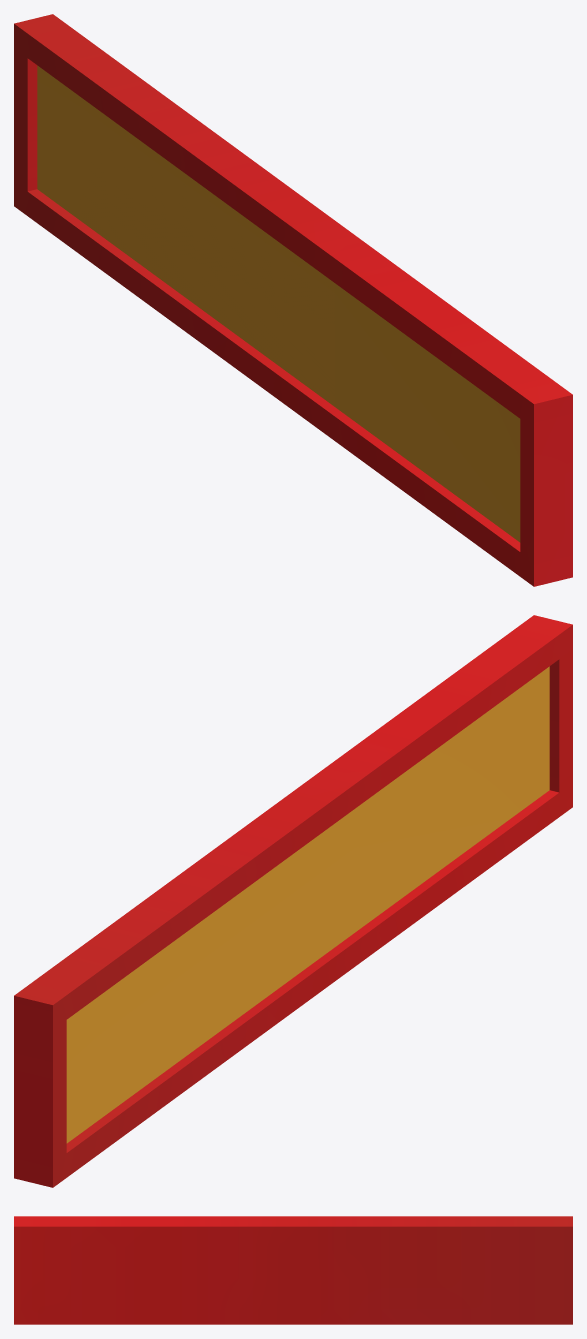
Rendered from SignBoard_1_A.fbx.
3 renders of one model, top to bottom at view 1: azimuth 30°, elevation 25°; view 2: azimuth 150°, elevation 25°; view 3: azimuth 270°, elevation 25°, orthographic. The views are drawn at different scales.
Parts seen in each view (by area): view 1: SignBoard_1_A; view 2: SignBoard_1_A; view 3: SignBoard_1_A.
Boxes of the visible parts, left/top/right/bottom form: SignBoard_1_A: left=14, top=14, right=572, bottom=586; SignBoard_1_A: left=14, top=615, right=572, bottom=1187; SignBoard_1_A: left=14, top=1216, right=572, bottom=1324.
Size of the model in its own units: 15.42 by 69.05 by 356.
